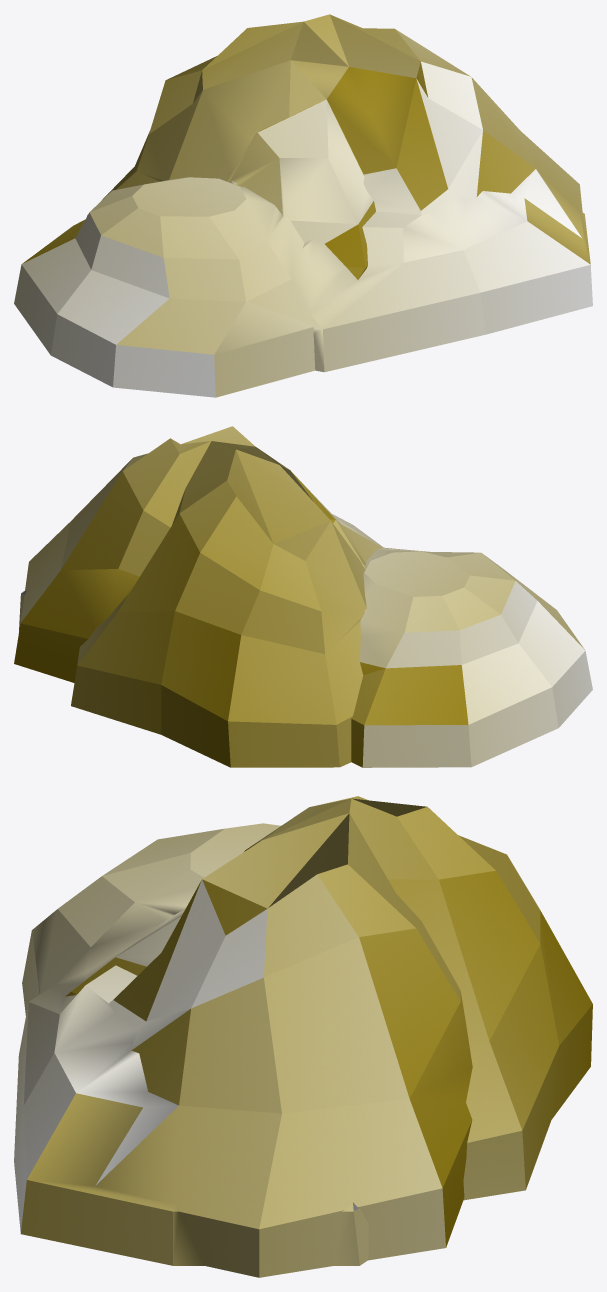
Rendered from Rock6.obj.
3 views of the same model, one above another, from view 1: azimuth 30°, elevation 25°; view 2: azimuth 150°, elevation 25°; view 3: azimuth 270°, elevation 25° (orthographic). The views are drawn at different scales.
Visible parts, largest first — view 1: Rock6:group5 Rock6:pasted__group3 Rock6:pasted__pasted__pSphere1, Rock6:group3 Rock6:pasted__group1 Rock6:pasted__pasted__pSphere1, Rock6:group2 Rock6:pasted__group Rock6:pasted__pasted__pSphere1S, Rock6:group4 Rock6:pasted__group2 Rock6:pasted__pasted__pSphere1; view 2: Rock6:group3 Rock6:pasted__group1 Rock6:pasted__pasted__pSphere1, Rock6:group5 Rock6:pasted__group3 Rock6:pasted__pasted__pSphere1, Rock6:group4 Rock6:pasted__group2 Rock6:pasted__pasted__pSphere1; view 3: Rock6:group3 Rock6:pasted__group1 Rock6:pasted__pasted__pSphere1, Rock6:group2 Rock6:pasted__group Rock6:pasted__pasted__pSphere1S, Rock6:group5 Rock6:pasted__group3 Rock6:pasted__pasted__pSphere1, Rock6:group4 Rock6:pasted__group2 Rock6:pasted__pasted__pSphere1.
Boxes of the visible parts, <box> form: Rock6:group5 Rock6:pasted__group3 Rock6:pasted__pasted__pSphere1: <box>14,177,315,397</box>; Rock6:group3 Rock6:pasted__group1 Rock6:pasted__pasted__pSphere1: <box>87,14,582,237</box>; Rock6:group2 Rock6:pasted__group Rock6:pasted__pasted__pSphere1S: <box>302,191,592,372</box>; Rock6:group4 Rock6:pasted__group2 Rock6:pasted__pasted__pSphere1: <box>227,99,375,279</box>; Rock6:group3 Rock6:pasted__group1 Rock6:pasted__pasted__pSphere1: <box>14,426,366,767</box>; Rock6:group5 Rock6:pasted__group3 Rock6:pasted__pasted__pSphere1: <box>351,547,592,767</box>; Rock6:group4 Rock6:pasted__group2 Rock6:pasted__pasted__pSphere1: <box>290,470,384,568</box>; Rock6:group3 Rock6:pasted__group1 Rock6:pasted__pasted__pSphere1: <box>95,796,592,1277</box>; Rock6:group2 Rock6:pasted__group Rock6:pasted__pasted__pSphere1S: <box>14,946,368,1265</box>; Rock6:group5 Rock6:pasted__group3 Rock6:pasted__pasted__pSphere1: <box>22,823,280,1015</box>; Rock6:group4 Rock6:pasted__group2 Rock6:pasted__pasted__pSphere1: <box>65,908,185,996</box>.
Bounding box in the file's own units: 15.54 × 6.67 × 10.74.
5 materials, 2 textured.
